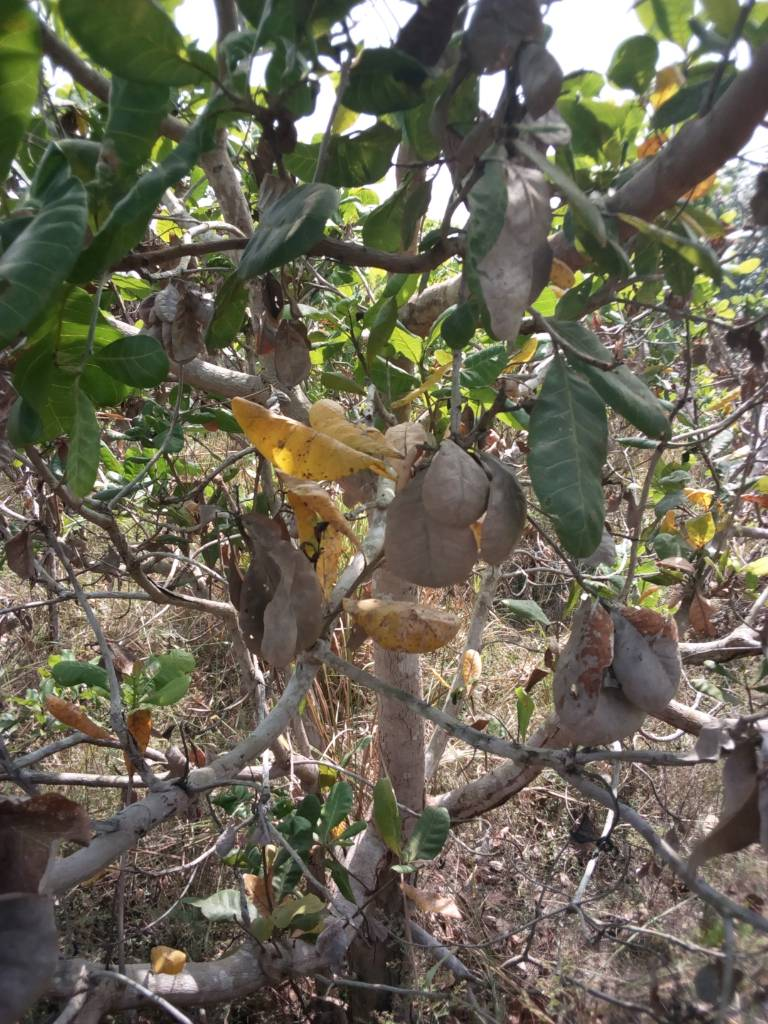Dessèchement des bourgeons: (385, 427, 522, 586), (558, 578, 680, 747), (708, 727, 768, 875), (497, 20, 533, 147), (716, 320, 762, 364)
